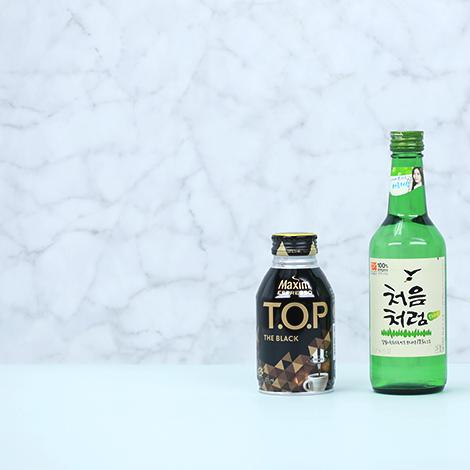soju: (367, 124, 453, 400)
